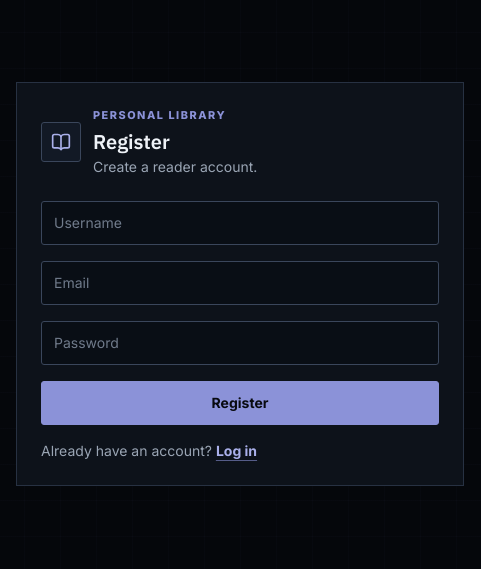
it: RegisterPage › maps username conflict to the username field
Type "reader" into the field with placeholder "Username" at (240, 223), box [41,201,439,245]
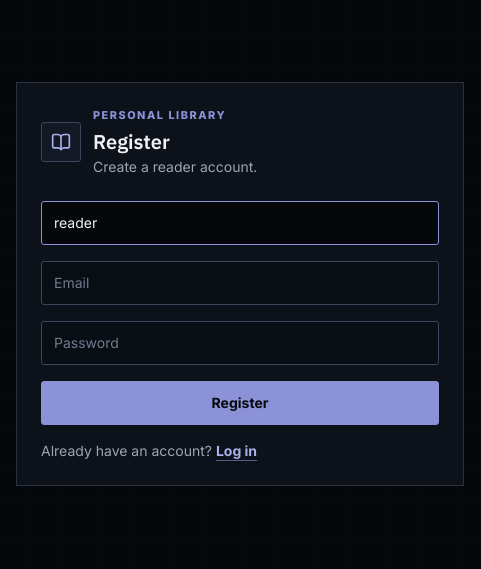
Type "reader@example.com" into the field with placeholder "Email" at (240, 283), box [41,261,439,305]
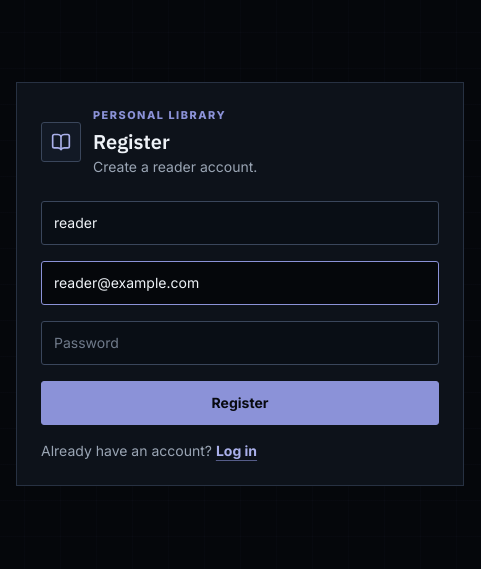
Type "Password123!" into the password field with placeholder "Password" at (240, 343), box [41,321,439,365]
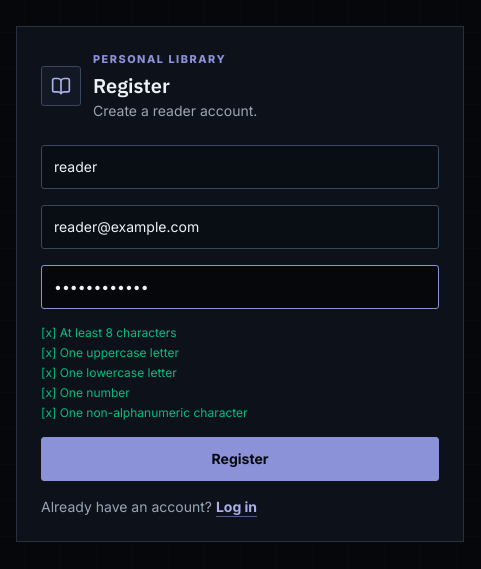
Click the button "Register" at (240, 459), box [41,437,439,481]
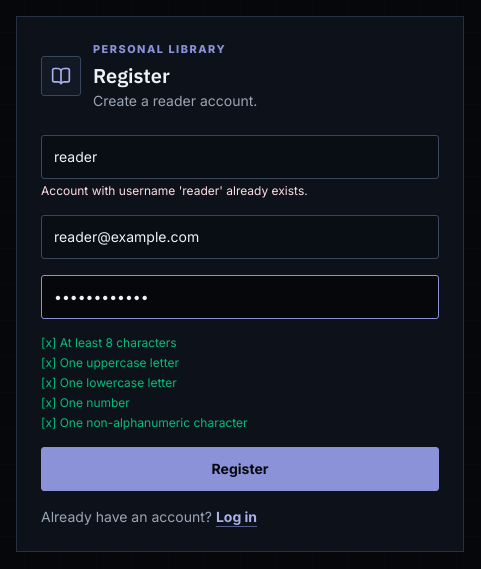
Result: the text "Account with username 'reader' already exists." is shown at [41,183,308,198]
